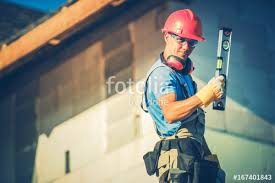hard hat: (160, 9, 207, 42)
